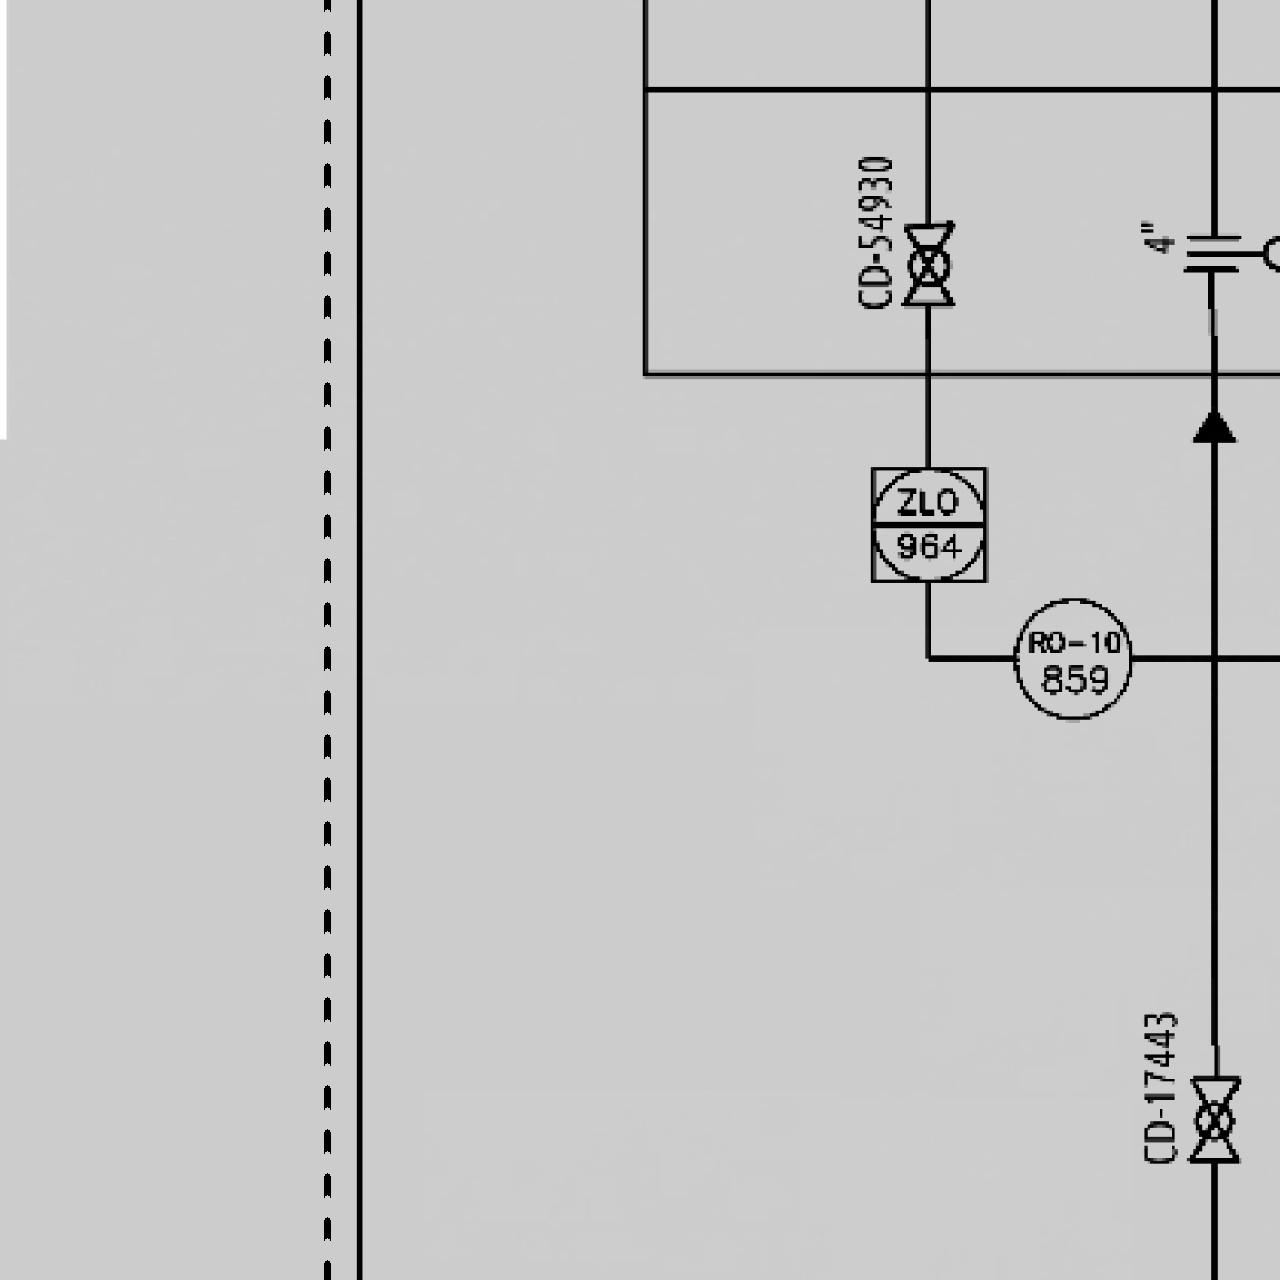Control-Panel: (1006, 592, 1138, 724)
